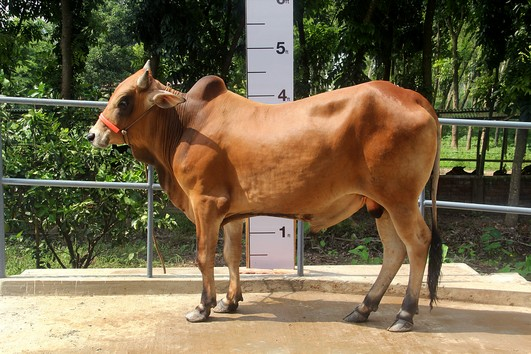cow: (84, 57, 448, 333)
